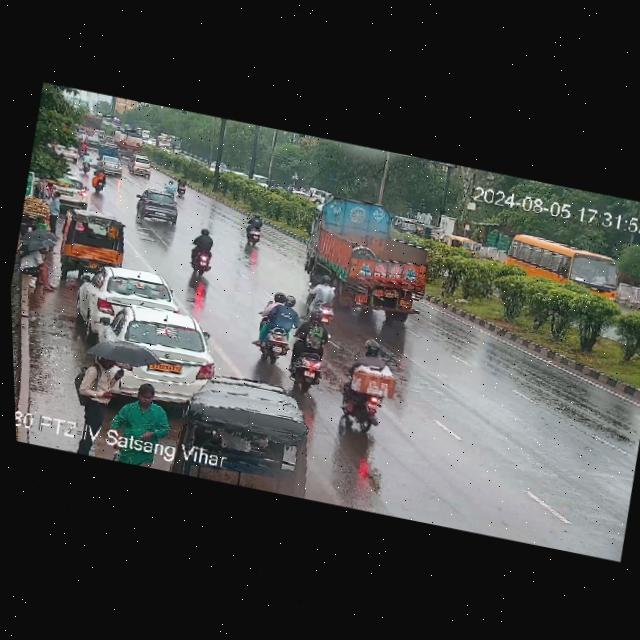bus: (502, 233, 634, 308)
car: (86, 302, 224, 399), (74, 260, 181, 338), (56, 208, 139, 280), (134, 187, 182, 230), (35, 170, 90, 207), (126, 154, 155, 177), (449, 236, 482, 256), (418, 222, 447, 242), (96, 144, 123, 162), (392, 215, 417, 234), (103, 157, 126, 177), (55, 142, 79, 160), (85, 136, 101, 150), (93, 130, 108, 139)
motorcycle: (336, 335, 411, 441), (243, 289, 309, 368), (283, 303, 334, 390), (307, 267, 346, 330), (189, 223, 219, 282), (238, 212, 271, 248), (78, 153, 95, 176), (174, 174, 190, 196), (163, 178, 177, 195), (78, 141, 88, 156)
person: (102, 379, 181, 462), (75, 345, 127, 425), (13, 243, 68, 298), (29, 186, 69, 231), (90, 161, 108, 192)
truck: (294, 192, 439, 323), (111, 125, 149, 154)
